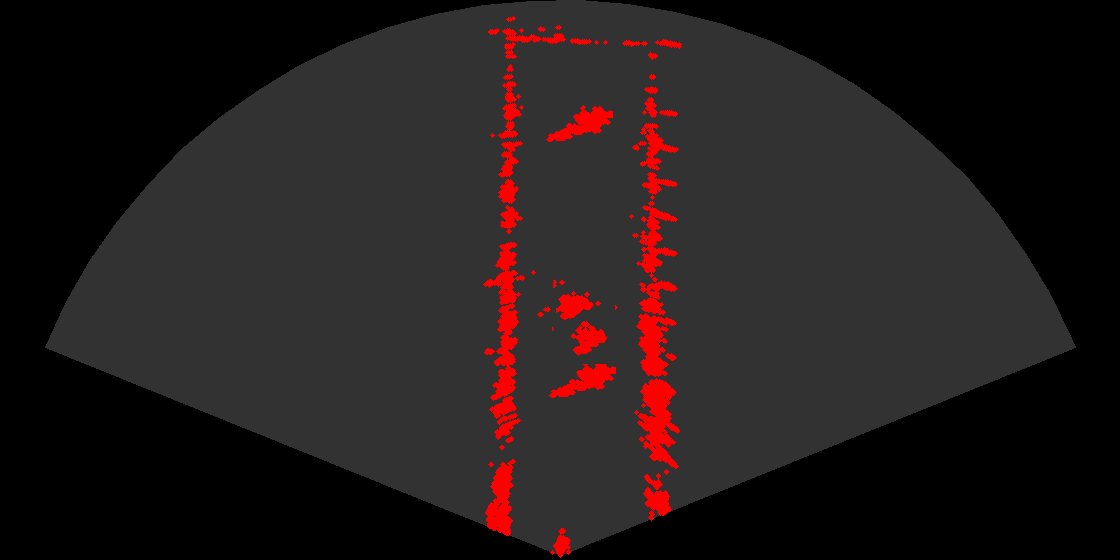cage: (552, 280, 615, 364)
frogman: (548, 355, 616, 402), (545, 99, 613, 146)
